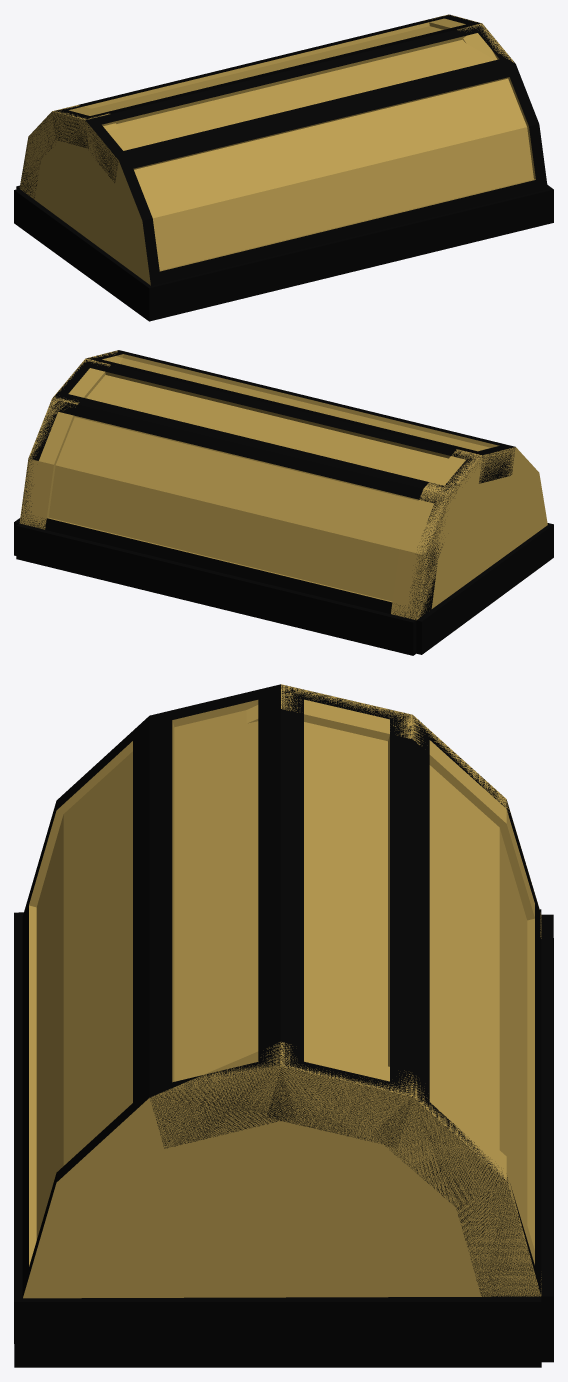
The model's file is chest-top-fixed.fbx.
The picture shows the model from 3 angles, top to bottom: view 1: azimuth 30°, elevation 25°; view 2: azimuth 150°, elevation 25°; view 3: azimuth 270°, elevation 25°; orthographic projection. The views are drawn at different scales.
Parts seen in each view (by area): view 1: Plane; view 2: Plane; view 3: Plane.
Part boxes in pixels (x1,y1,x2,y2): Plane: [14, 14, 553, 321]; Plane: [14, 350, 553, 655]; Plane: [14, 684, 553, 1367].
Size of the model in its own units: 206 by 72.65 by 119.
